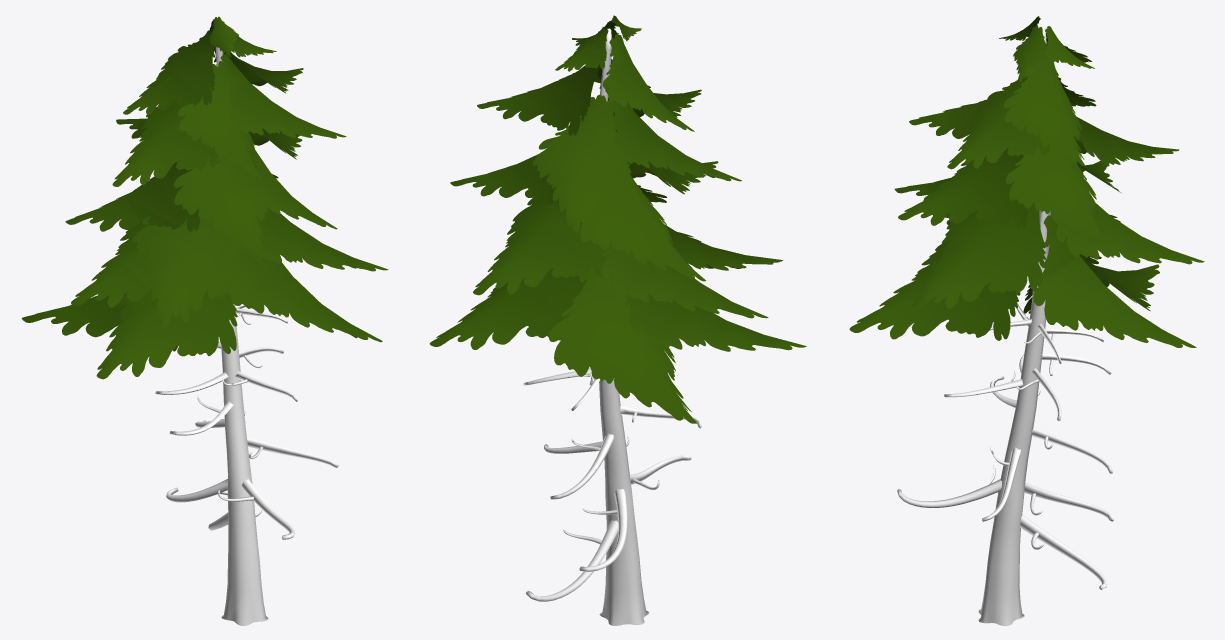
Rendered from pine-3.glb.
3 views of the same model, side by side, from view 1: azimuth 30°, elevation 25°; view 2: azimuth 150°, elevation 25°; view 3: azimuth 270°, elevation 25° (orthographic). The views are drawn at different scales.
Parts seen in each view (by area): view 1: Pine_3; view 2: Pine_3; view 3: Pine_3.
Boxes of the visible parts, x1=… form: Pine_3: x1=21, y1=16, x2=388, y2=625; Pine_3: x1=429, y1=15, x2=806, y2=625; Pine_3: x1=849, y1=16, x2=1204, y2=625.
Size of the model in its own units: 3.61 by 7.16 by 4.
Materials: 2 (1 with a texture image).
